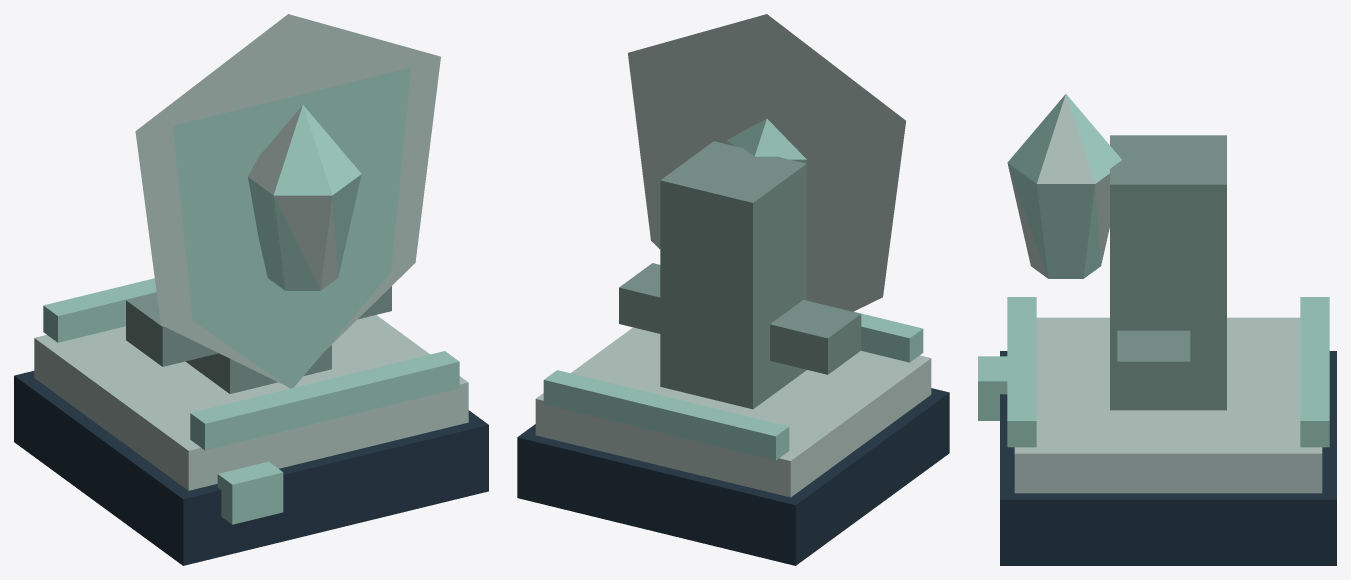
File: module-shield.glb
3 views of the same model, side by side, from view 1: azimuth 30°, elevation 25°; view 2: azimuth 150°, elevation 25°; view 3: azimuth 270°, elevation 25° (orthographic). The views are drawn at different scales.
Parts seen in each view (by area): view 1: 扇区护盾; view 2: 扇区护盾; view 3: 扇区护盾.
Part boxes in pixels (box(x1,y1,x2,y2)): 扇区护盾: box(14, 14, 488, 565); 扇区护盾: box(517, 14, 949, 565); 扇区护盾: box(978, 94, 1336, 565).
Size of the model in its own units: 0.24 by 0.36 by 0.245.
